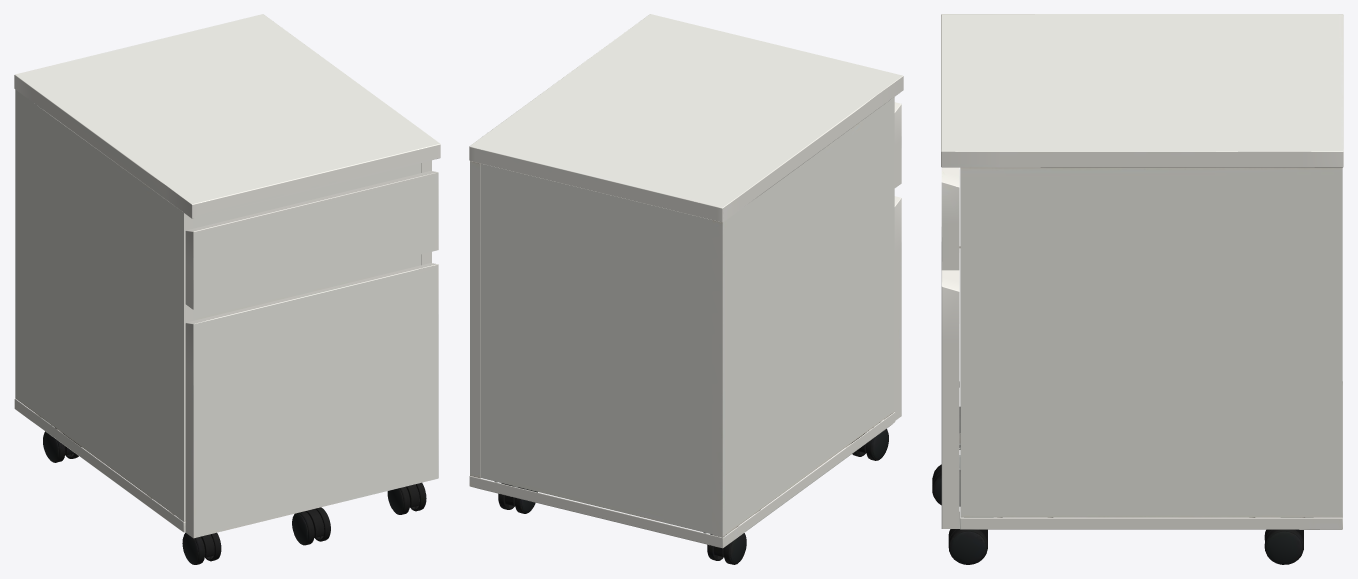
Rendered from malm_komoda_na_kokach_90340651.glb.
3 views of the same model, side by side, from view 1: azimuth 30°, elevation 25°; view 2: azimuth 150°, elevation 25°; view 3: azimuth 270°, elevation 25° (orthographic). The views are drawn at different scales.
Visible parts, largest first — view 1: malm_komoda_na_kokach_90340651; view 2: malm_komoda_na_kokach_90340651; view 3: malm_komoda_na_kokach_90340651.
Part boxes in pixels (bbox=[...]): malm_komoda_na_kokach_90340651: bbox=[14, 14, 440, 564]; malm_komoda_na_kokach_90340651: bbox=[469, 14, 903, 564]; malm_komoda_na_kokach_90340651: bbox=[932, 14, 1343, 564].
Size of the model in its own units: 0.413 by 0.5881 by 0.5219.
1 material, 1 textured.
